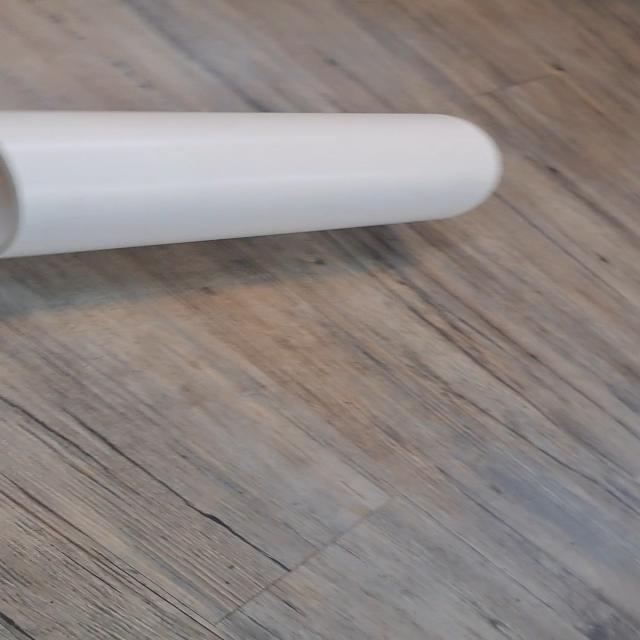CORAL: (0, 90, 516, 261)
